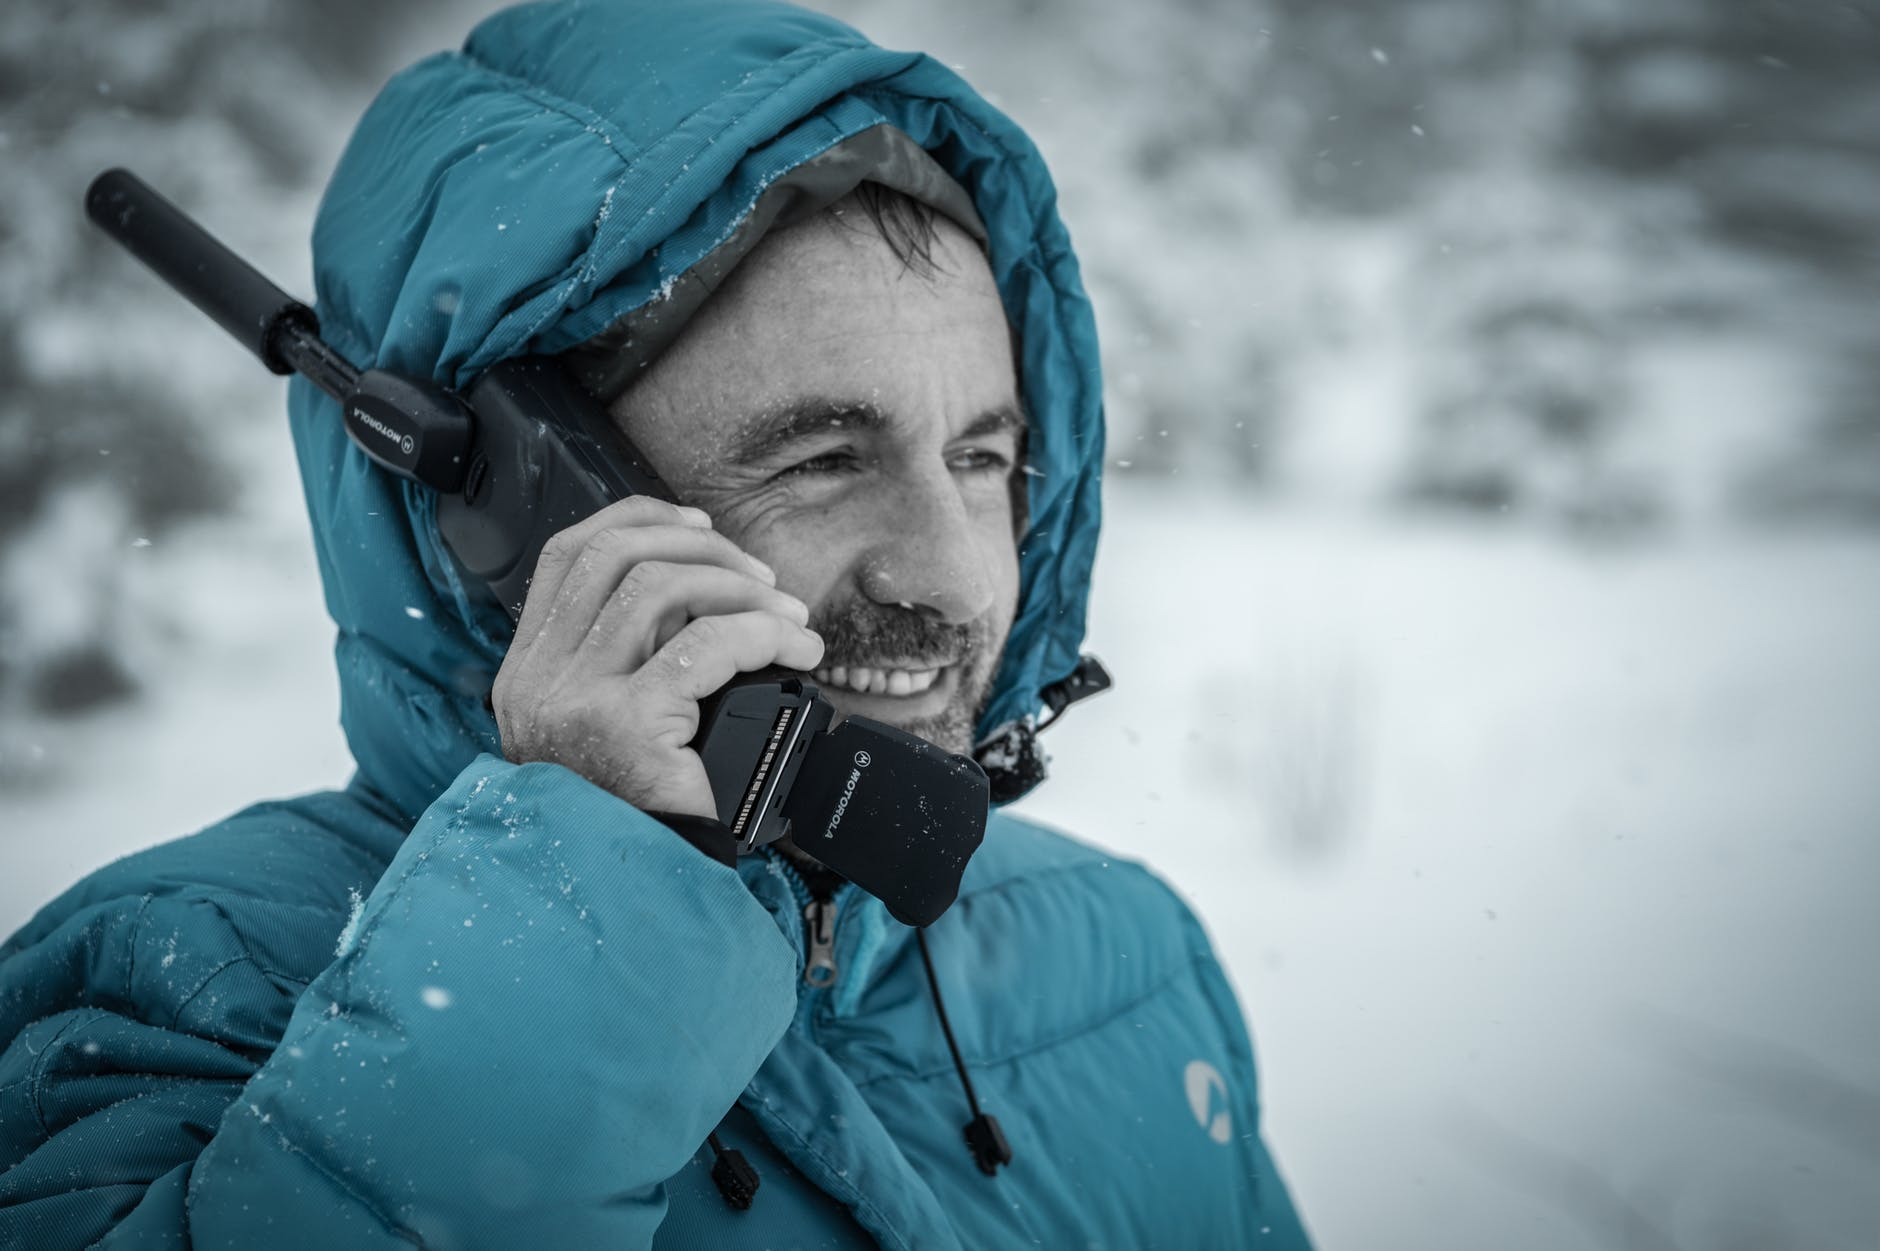phone: (444, 362, 836, 843)
talk: (430, 343, 1024, 899)
